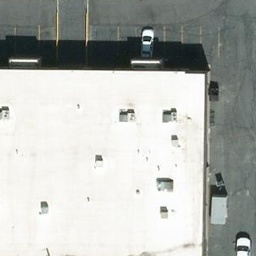car: (139, 28, 156, 59), (235, 232, 251, 256)
